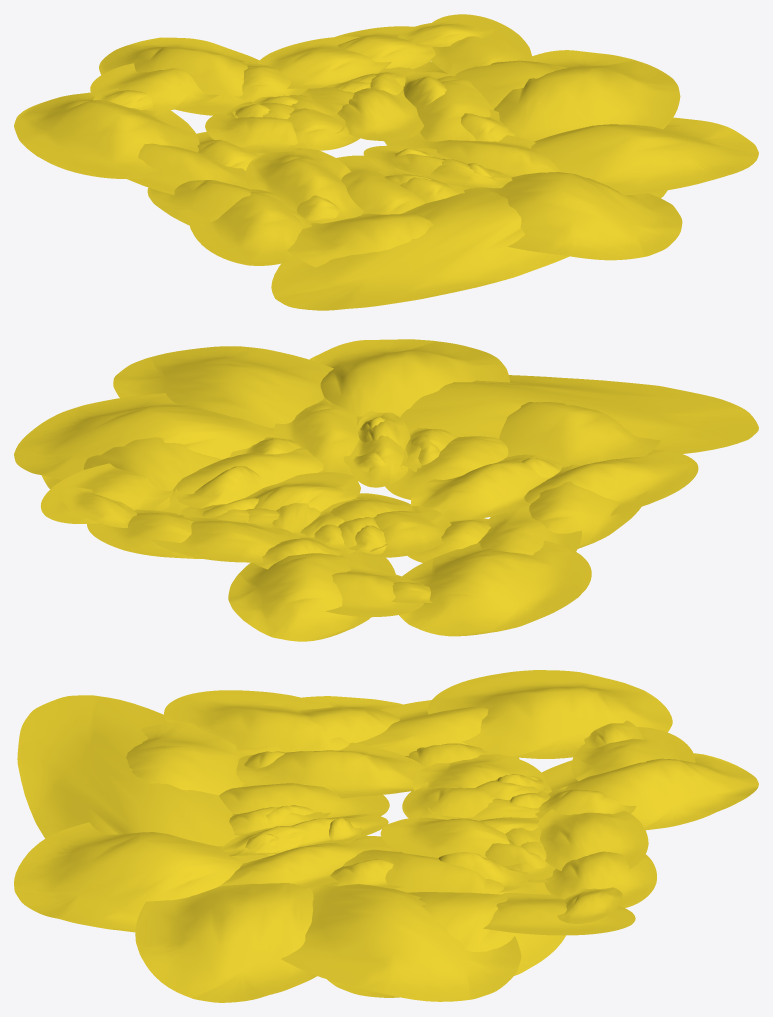
Rendered from test_sol.fbx.
3 renders of one model, top to bottom at view 1: azimuth 30°, elevation 25°; view 2: azimuth 150°, elevation 25°; view 3: azimuth 270°, elevation 25°, orthographic. The views are drawn at different scales.
Visible parts, largest first — view 1: Ground_Sphere_Mound_Small_4x02x005__18_, Ground_Sphere_Mound_Small_4x02x005__19_, Ground_Sphere_Mound_Small_4x02x005__20_, Ground_Sphere_Mound_Small_4x02x005__21_, Ground_Sphere_Mound_Small_4x02x005__11_, Ground_Sphere_Mound_Small_4x02x005__9_, Ground_Sphere_Mound_Small_4x02x005__15_, Ground_Sphere_Mound_Small_4x02x005__29_, Ground_Sphere_Mound_Small_4x02x005__17_, Ground_Sphere_Mound_Small_4x02x005__7_, Ground_Sphere_Mound_Small_4x02x005__25_, Ground_Sphere_Mound_Small_4x02x005__40_ (+23 smaller); view 2: Ground_Sphere_Mound_Small_4x02x005__18_, Ground_Sphere_Mound_Small_4x02x005__11_, Ground_Sphere_Mound_Small_4x02x005__20_, Ground_Sphere_Mound_Small_4x02x005__21_, Ground_Sphere_Mound_Small_4x02x005__19_, Ground_Sphere_Mound_Small_4x02x005__9_, Ground_Sphere_Mound_Small_4x02x005__17_, Ground_Sphere_Mound_Small_4x02x005__15_, Ground_Sphere_Mound_Small_4x02x005__29_, Ground_Sphere_Mound_Small_4x02x005__14_, Ground_Sphere_Mound_Small_4x02x005__7_, Ground_Sphere_Mound_Small_4x02x005__22_ (+28 smaller); view 3: Ground_Sphere_Mound_Small_4x02x005__18_, Ground_Sphere_Mound_Small_4x02x005__21_, Ground_Sphere_Mound_Small_4x02x005__20_, Ground_Sphere_Mound_Small_4x02x005__19_, Ground_Sphere_Mound_Small_4x02x005__11_, Ground_Sphere_Mound_Small_4x02x005__9_, Ground_Sphere_Mound_Small_4x02x005__15_, Ground_Sphere_Mound_Small_4x02x005__29_, Ground_Sphere_Mound_Small_4x02x005__17_, Ground_Sphere_Mound_Small_4x02x005__22_, Ground_Sphere_Mound_Small_4x02x005__7_, Ground_Sphere_Mound_Small_4x02x005__25_ (+26 smaller).
Boxes of the visible parts, <box> form: Ground_Sphere_Mound_Small_4x02x005__18_: <box>271,188,667,310</box>; Ground_Sphere_Mound_Small_4x02x005__19_: <box>461,172,682,260</box>; Ground_Sphere_Mound_Small_4x02x005__20_: <box>508,117,758,195</box>; Ground_Sphere_Mound_Small_4x02x005__21_: <box>494,50,680,141</box>; Ground_Sphere_Mound_Small_4x02x005__11_: <box>14,92,199,178</box>; Ground_Sphere_Mound_Small_4x02x005__9_: <box>99,37,259,115</box>; Ground_Sphere_Mound_Small_4x02x005__15_: <box>188,189,302,265</box>; Ground_Sphere_Mound_Small_4x02x005__29_: <box>246,148,363,223</box>; Ground_Sphere_Mound_Small_4x02x005__17_: <box>287,213,433,267</box>; Ground_Sphere_Mound_Small_4x02x005__7_: <box>257,36,391,88</box>; Ground_Sphere_Mound_Small_4x02x005__25_: <box>400,132,562,176</box>; Ground_Sphere_Mound_Small_4x02x005__40_: <box>337,88,423,141</box>; Ground_Sphere_Mound_Small_4x02x005__18_: <box>400,375,758,457</box>; Ground_Sphere_Mound_Small_4x02x005__11_: <box>399,540,591,636</box>; Ground_Sphere_Mound_Small_4x02x005__20_: <box>113,346,362,428</box>; Ground_Sphere_Mound_Small_4x02x005__21_: <box>14,393,273,479</box>; Ground_Sphere_Mound_Small_4x02x005__19_: <box>309,339,509,417</box>; Ground_Sphere_Mound_Small_4x02x005__9_: <box>228,552,395,641</box>; Ground_Sphere_Mound_Small_4x02x005__17_: <box>499,402,660,467</box>; Ground_Sphere_Mound_Small_4x02x005__15_: <box>490,449,698,517</box>; Ground_Sphere_Mound_Small_4x02x005__29_: <box>411,454,562,521</box>; Ground_Sphere_Mound_Small_4x02x005__14_: <box>529,464,649,548</box>; Ground_Sphere_Mound_Small_4x02x005__7_: <box>150,516,300,562</box>; Ground_Sphere_Mound_Small_4x02x005__22_: <box>41,437,221,510</box>; Ground_Sphere_Mound_Small_4x02x005__18_: <box>17,695,250,846</box>; Ground_Sphere_Mound_Small_4x02x005__21_: <box>281,883,521,1001</box>; Ground_Sphere_Mound_Small_4x02x005__20_: <box>135,854,316,1002</box>; Ground_Sphere_Mound_Small_4x02x005__19_: <box>14,822,242,932</box>; Ground_Sphere_Mound_Small_4x02x005__11_: <box>427,670,672,758</box>; Ground_Sphere_Mound_Small_4x02x005__9_: <box>541,753,758,830</box>; Ground_Sphere_Mound_Small_4x02x005__15_: <box>164,690,349,752</box>; Ground_Sphere_Mound_Small_4x02x005__29_: <box>236,742,424,798</box>; Ground_Sphere_Mound_Small_4x02x005__17_: <box>126,722,247,795</box>; Ground_Sphere_Mound_Small_4x02x005__22_: <box>327,882,565,997</box>; Ground_Sphere_Mound_Small_4x02x005__7_: <box>537,809,648,870</box>; Ground_Sphere_Mound_Small_4x02x005__25_: <box>218,836,399,888</box>.
Bounding box in the file's own units: 29676 × 2261 × 30183.
